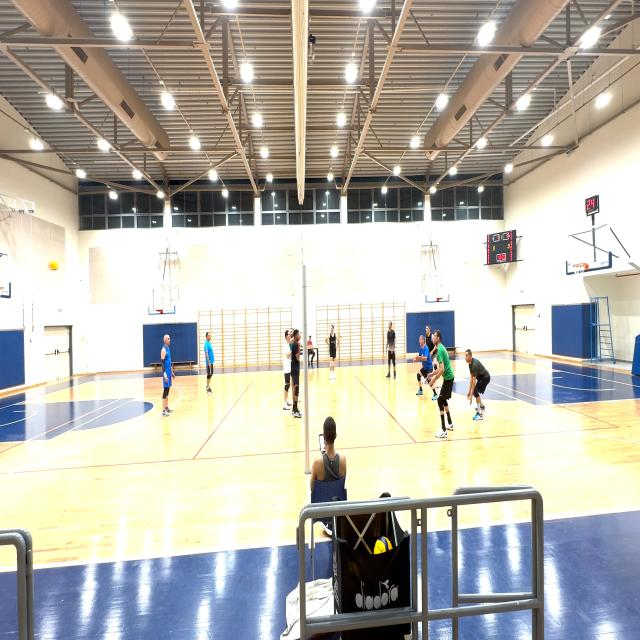volleyball: (373, 536, 393, 555), (49, 260, 58, 270)
